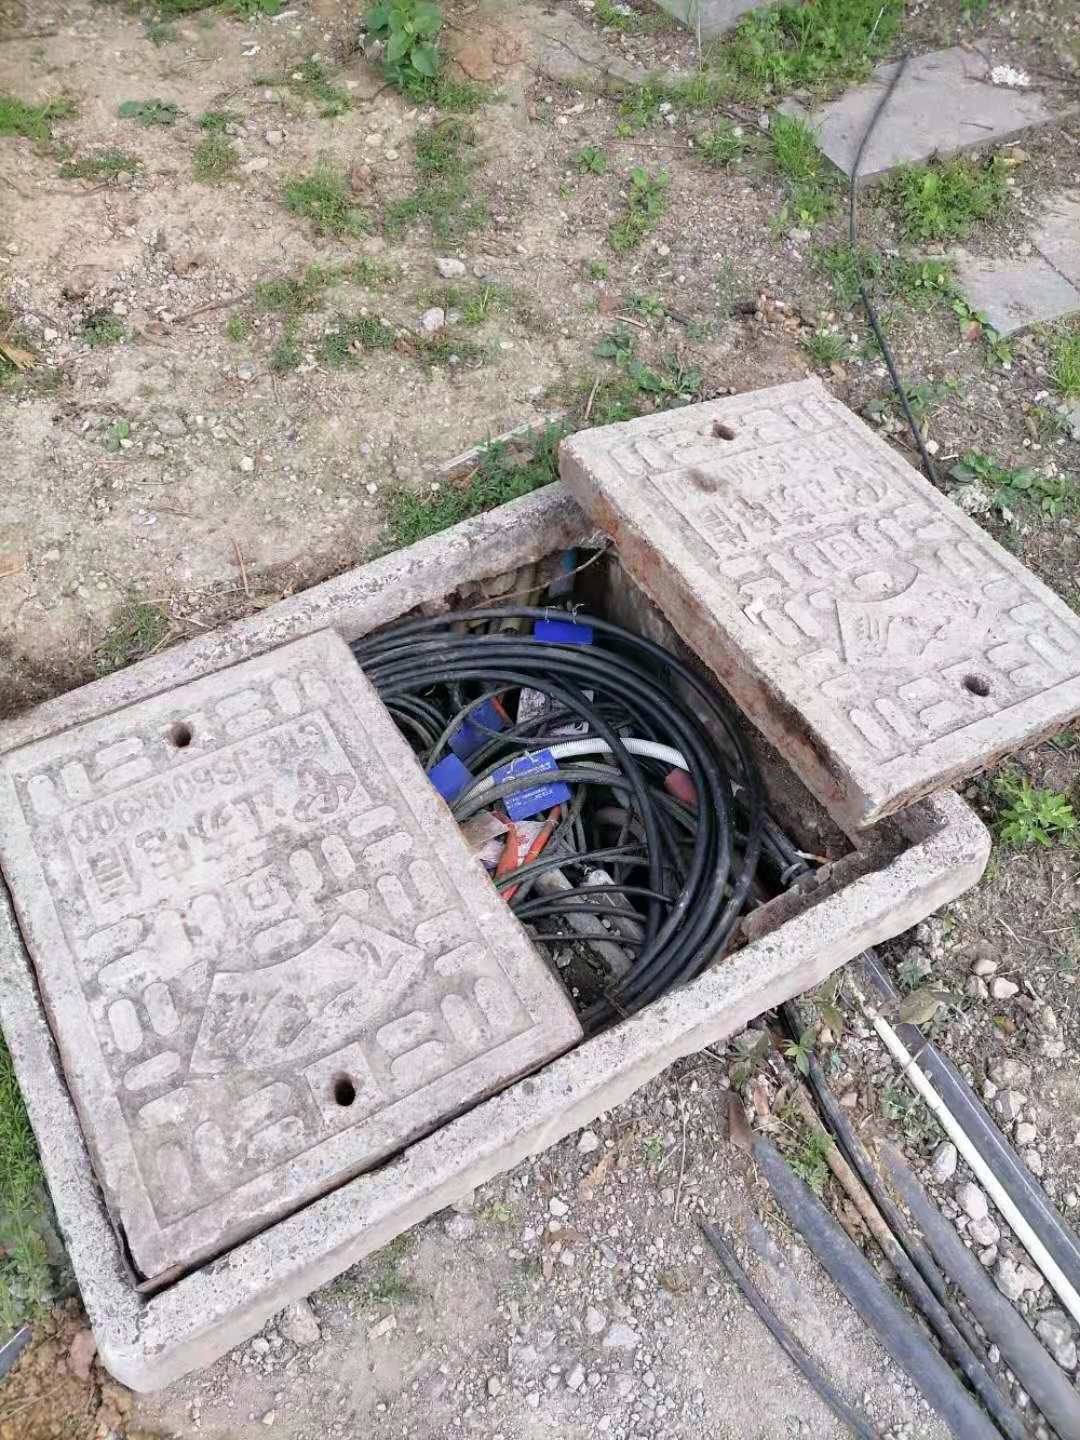uncovered: (10, 373, 1079, 1388)
